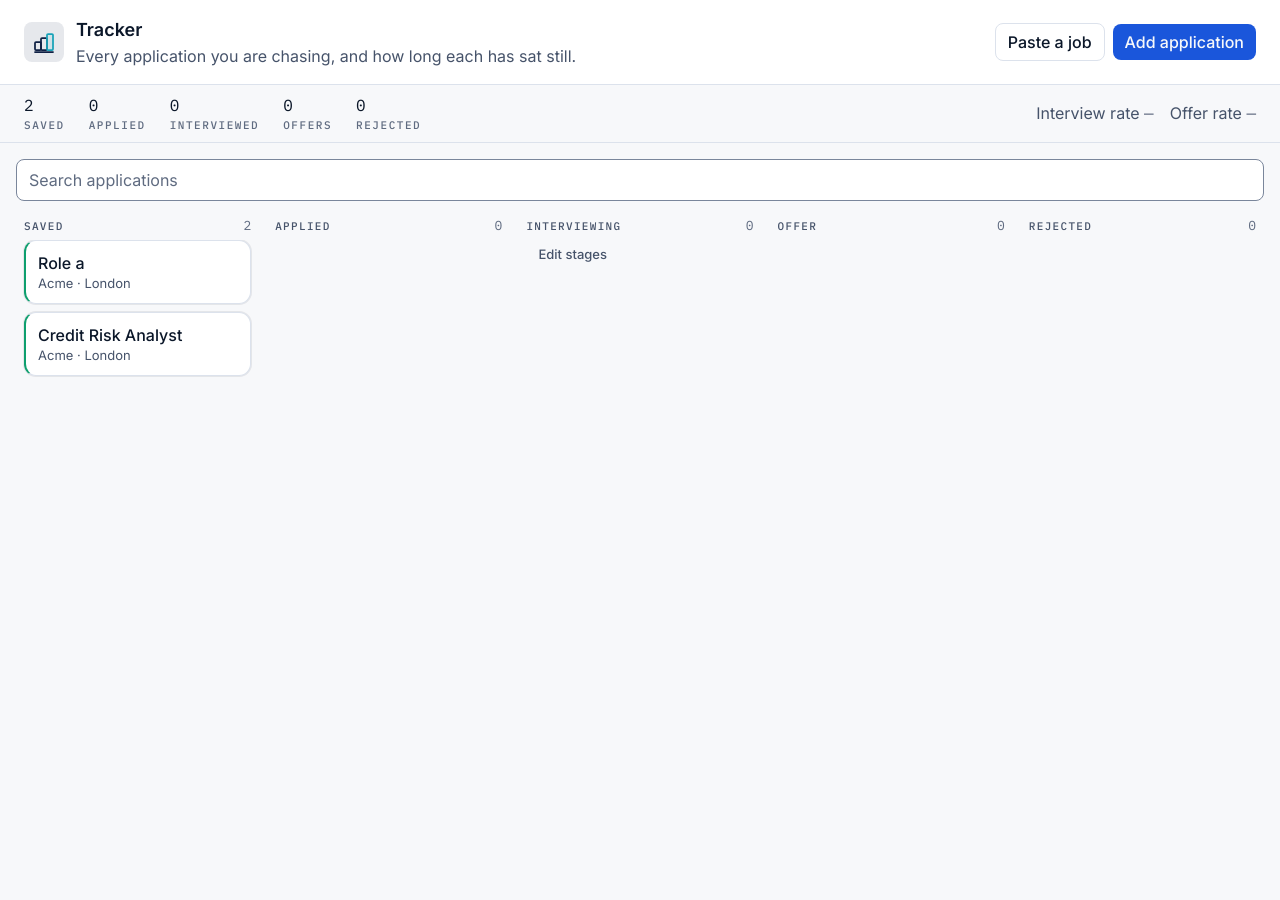
Test: from an application to the rest of the flow › negative: with nowhere to go, neither button is drawn
Expected: the element with test id "tracker-column-saved" is shown, [16,208,259,384]
Click the button with test id "tracker-card-a".
click(138, 272)  # box [24,240,251,304]
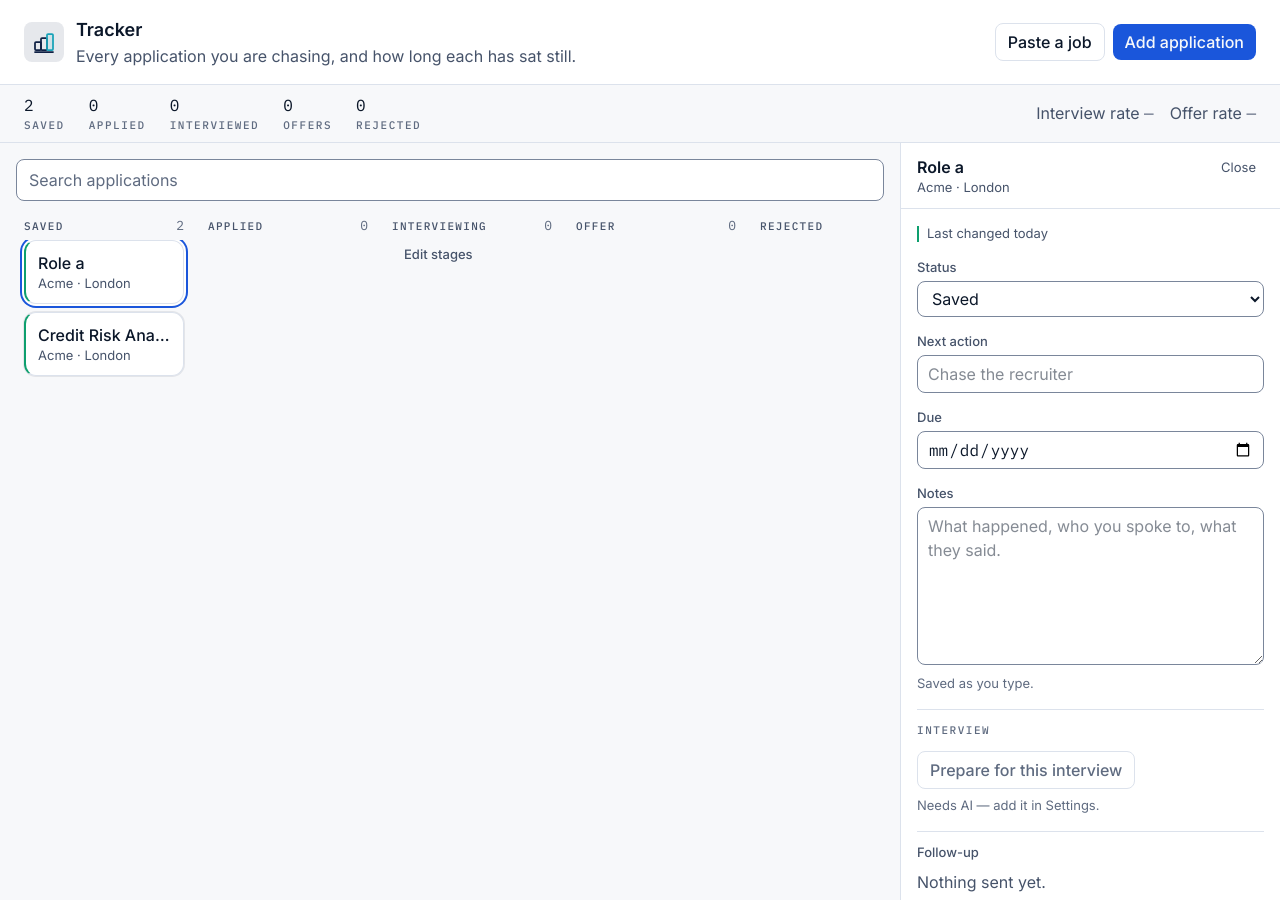
Now the dropdown with test id "detail-status" is shown, box [917,282,1264,318]
